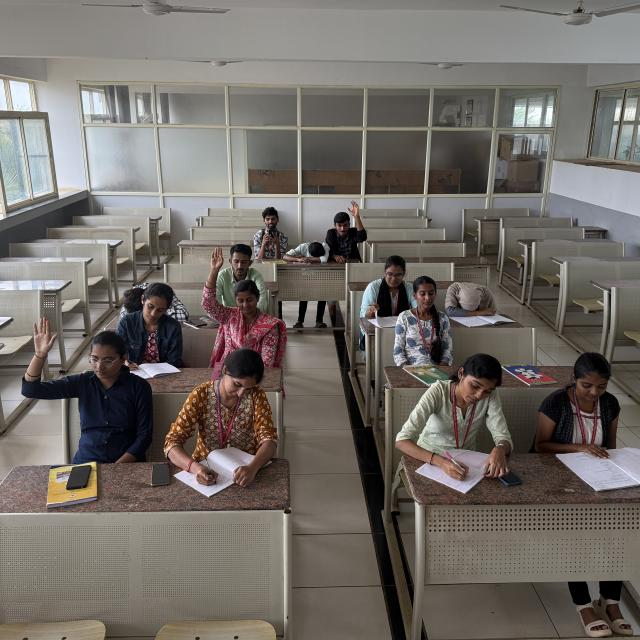Hand Rising: (20, 316, 144, 461), (203, 245, 285, 356), (326, 200, 370, 262)
Reading: (546, 349, 640, 486)
Sleeping: (120, 277, 185, 323), (444, 276, 498, 322), (286, 241, 332, 268)
Using Phone: (253, 207, 289, 260)
Writing: (169, 349, 274, 497), (404, 352, 499, 487), (120, 286, 180, 378)
